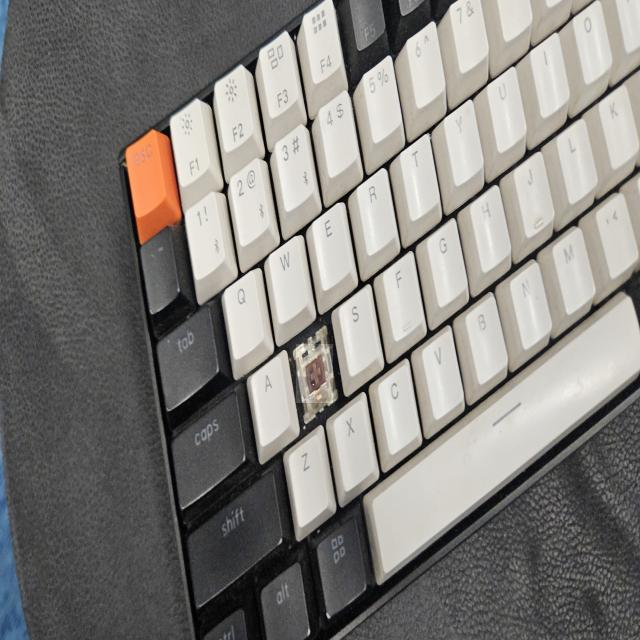C: (296, 344, 333, 403)
